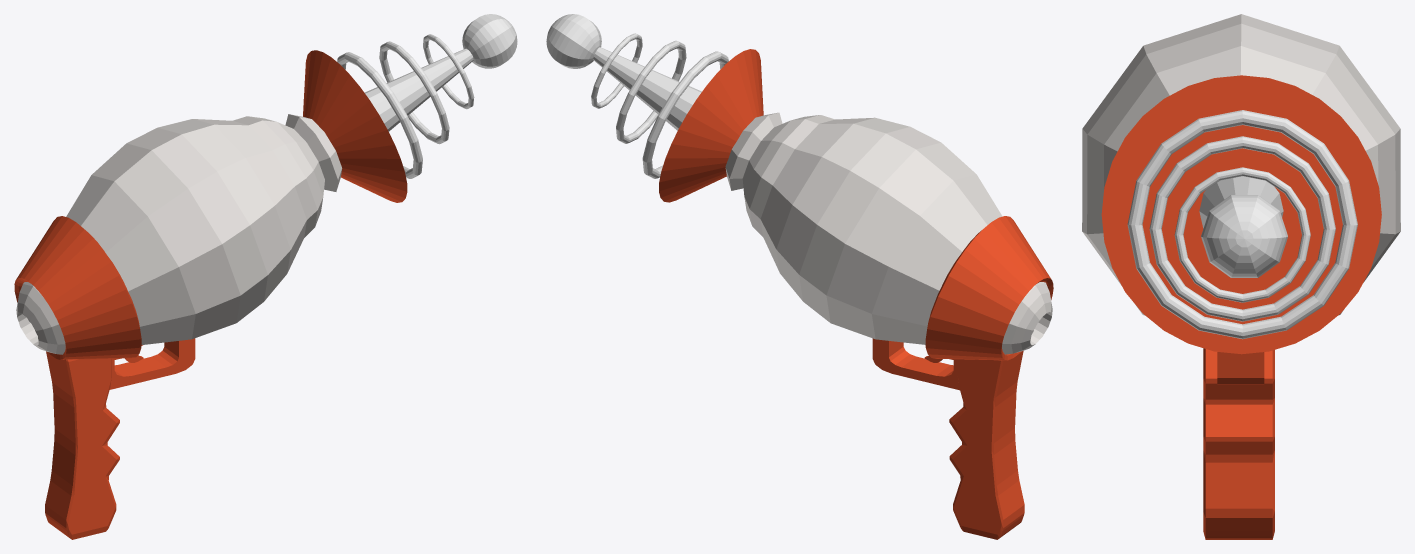
File: ND_raygun.fbx
3 renders of one model, left to right at view 1: azimuth 30°, elevation 25°; view 2: azimuth 150°, elevation 25°; view 3: azimuth 270°, elevation 25°, orthographic. The views are drawn at different scales.
Parts seen in each view (by area): view 1: Circle.003; view 2: Circle.003; view 3: Circle.003.
Boxes of the visible parts, left/top/right/bottom form: Circle.003: left=14, top=14, right=517, bottom=539; Circle.003: left=546, top=14, right=1053, bottom=539; Circle.003: left=1082, top=14, right=1400, bottom=539.
Bounding box in the file's own units: 5.61 × 15.88 × 12.59.
